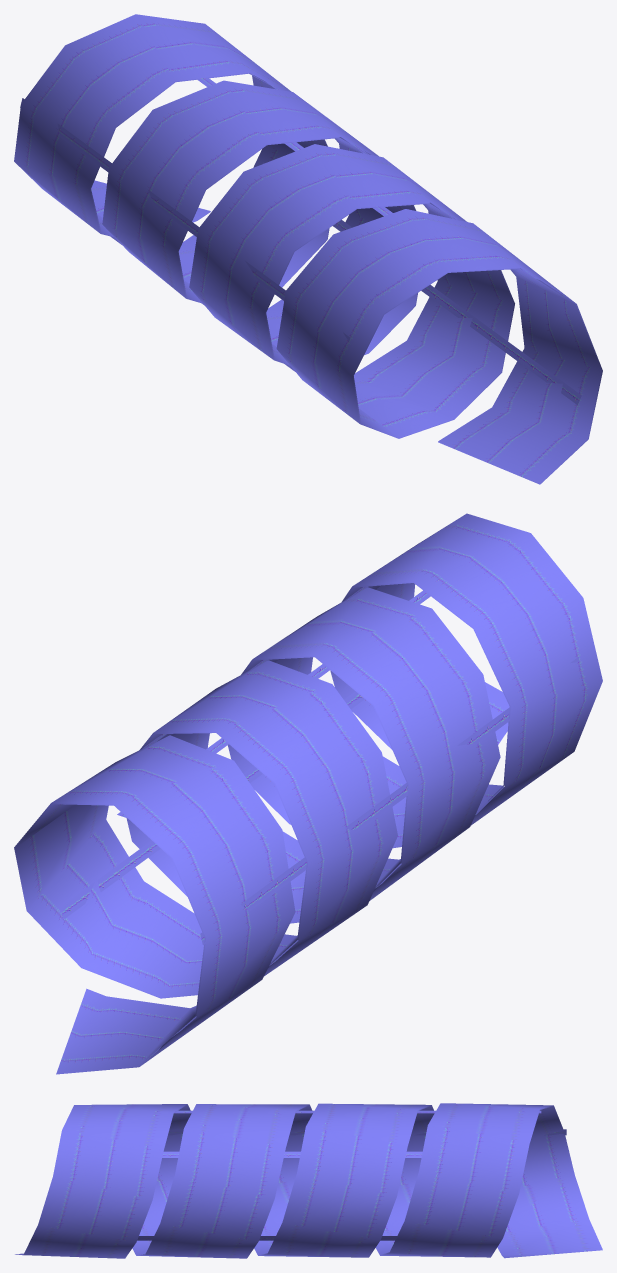
Rendered from BarbedWireFence_3m.FBX.
The picture shows the model from 3 angles, top to bottom: view 1: azimuth 30°, elevation 25°; view 2: azimuth 150°, elevation 25°; view 3: azimuth 270°, elevation 25°; orthographic projection. The views are drawn at different scales.
Visible parts, largest first — view 1: BarbedWireFence_3m; view 2: BarbedWireFence_3m; view 3: BarbedWireFence_3m.
Boxes of the visible parts, x1,y1,x2,y2 form: BarbedWireFence_3m: [14, 14, 602, 484]; BarbedWireFence_3m: [14, 513, 602, 1074]; BarbedWireFence_3m: [15, 1103, 602, 1258].
Size of the model in its own units: 102 by 94.21 by 360.
